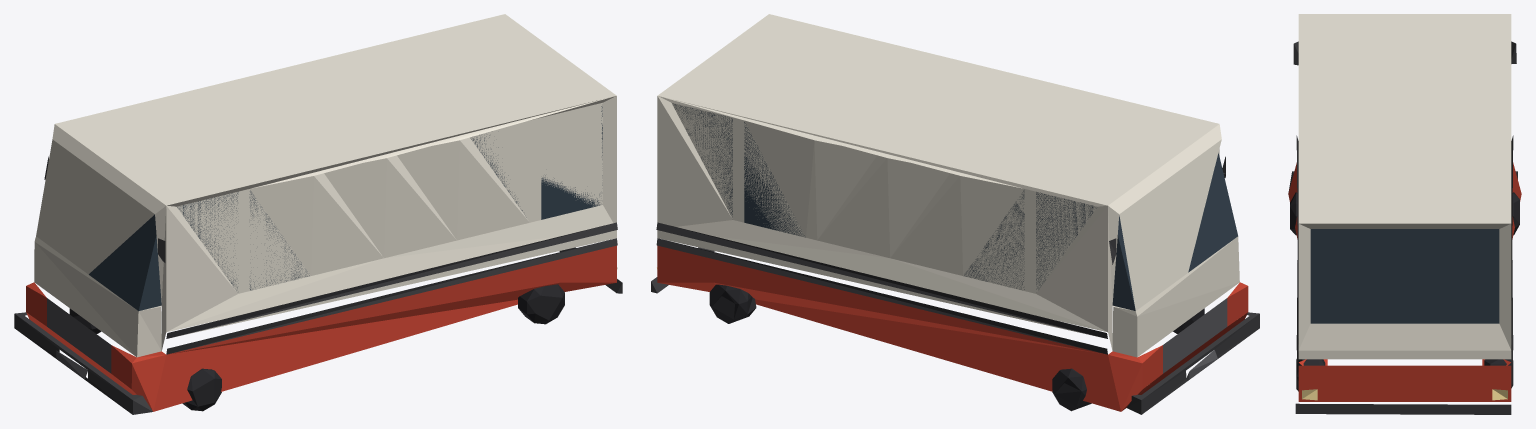
The model's file is bus.glb.
3 views of the same model, side by side, from view 1: azimuth 30°, elevation 25°; view 2: azimuth 150°, elevation 25°; view 3: azimuth 270°, elevation 25° (orthographic). The views are drawn at different scales.
Parts seen in each view (by area): view 1: Bus, BackWheels, FrontWheels; view 2: Bus, FrontWheels, BackWheels; view 3: Bus, FrontWheels, BackWheels.
Part boxes in pixels (x1,y1,x2,y2): Bus: (14,14,622,414); BackWheels: (518,284,564,324); FrontWheels: (69,308,221,411); Bus: (651,14,1259,414); FrontWheels: (1052,308,1204,411); BackWheels: (709,284,756,323); Bus: (1288,14,1521,414); FrontWheels: (1290,192,1519,235); BackWheels: (1296,359,1513,391).
Bounding box in the file's own units: 4.09 × 1.68 × 1.74.
